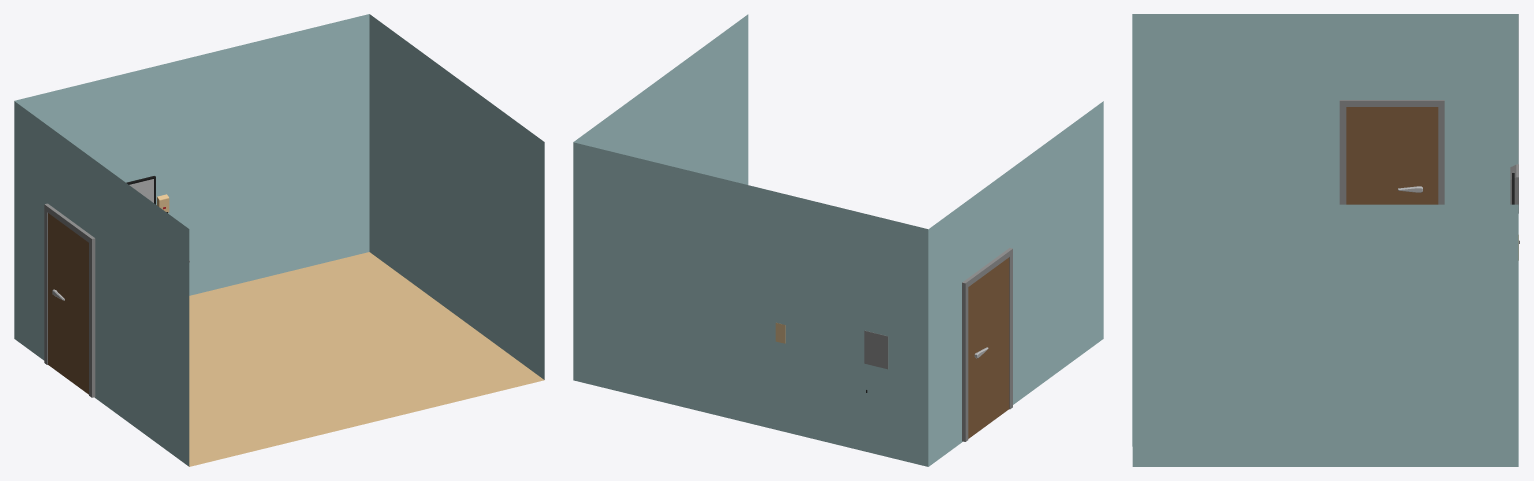
File: hand_sink.gltf
The picture shows the model from 3 angles, left to right: view 1: azimuth 30°, elevation 25°; view 2: azimuth 150°, elevation 25°; view 3: azimuth 270°, elevation 25°; orthographic projection. The views are drawn at different scales.
Visible parts, largest first — view 1: Walls, Door_wooden, Door_small_frame; view 2: Walls, Door_wooden, Door_small_frame, PaperTowels; view 3: Walls, Door_wooden, Door_small_frame.
Part boxes in pixels (<box>): Walls: <box>14,14,544,466</box>; Door_wooden: <box>48,213,88,394</box>; Door_small_frame: <box>44,203,95,397</box>; Walls: <box>573,14,1103,466</box>; Door_wooden: <box>968,257,1009,438</box>; Door_small_frame: <box>962,248,1012,441</box>; PaperTowels: <box>864,330,888,369</box>; Walls: <box>1132,14,1518,466</box>; Door_wooden: <box>1346,107,1438,204</box>; Door_small_frame: <box>1339,100,1444,204</box>.
Bounding box in the file's own units: 6.35 × 4 × 5.36.
